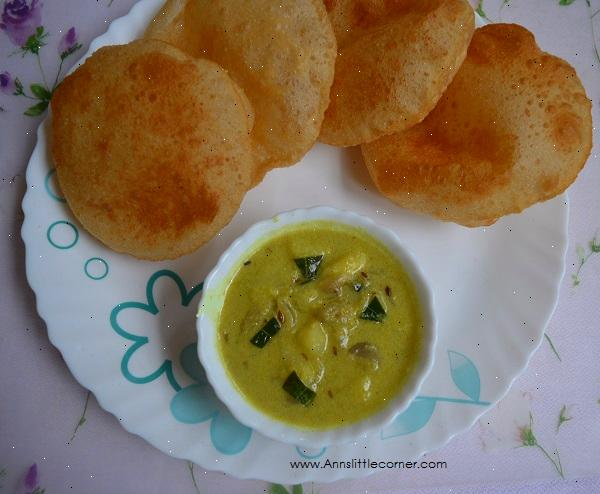puri: (48, 3, 588, 221)
